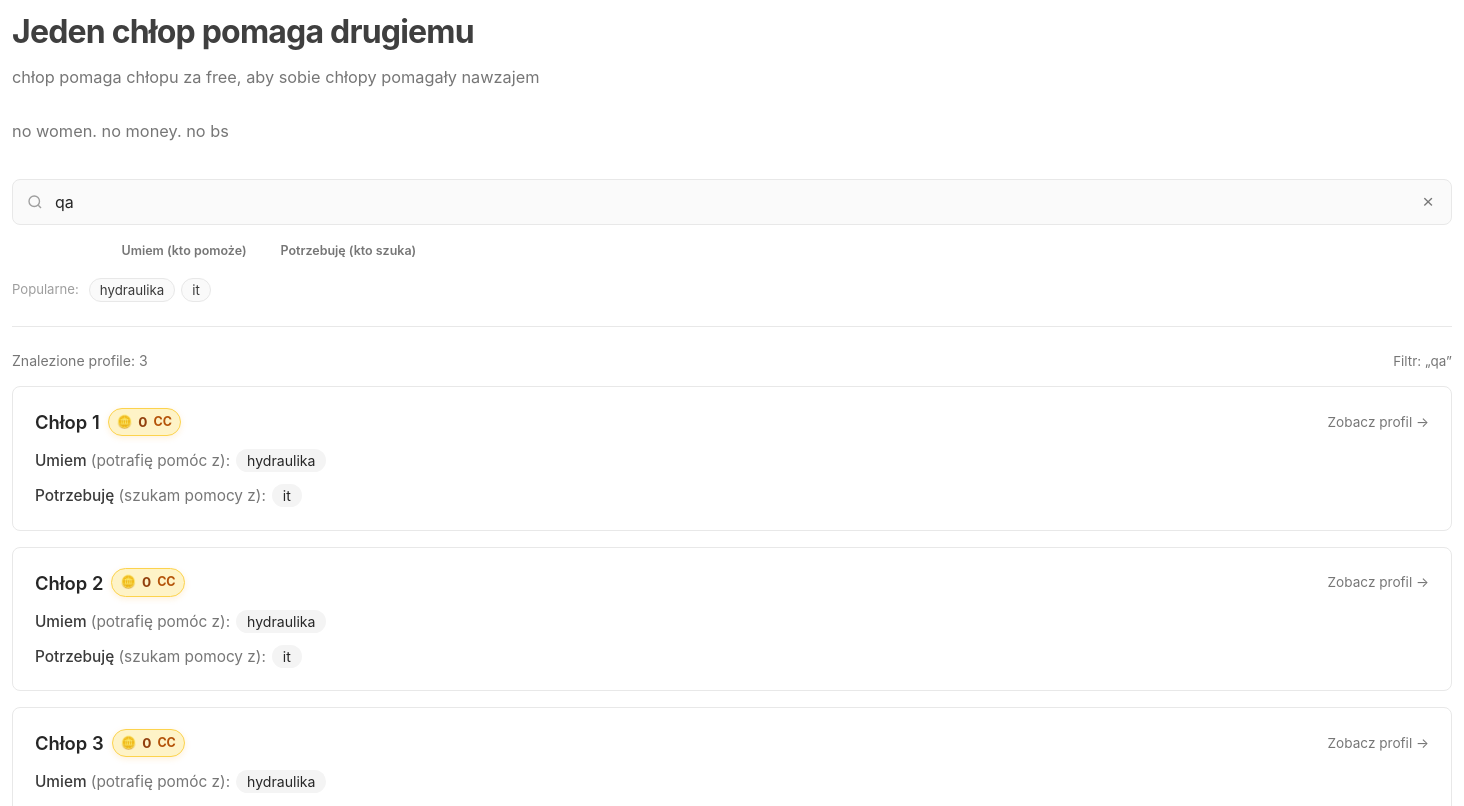
Test case: HomeView: wyszukiwarka i filtry › przycisk × i klawisz Escape czyszczą wyszukiwanie
The image size is (1464, 806).
Click the button named "Wyczyść wyszukiwanie": (1428, 202) [1414,188,1442,216]
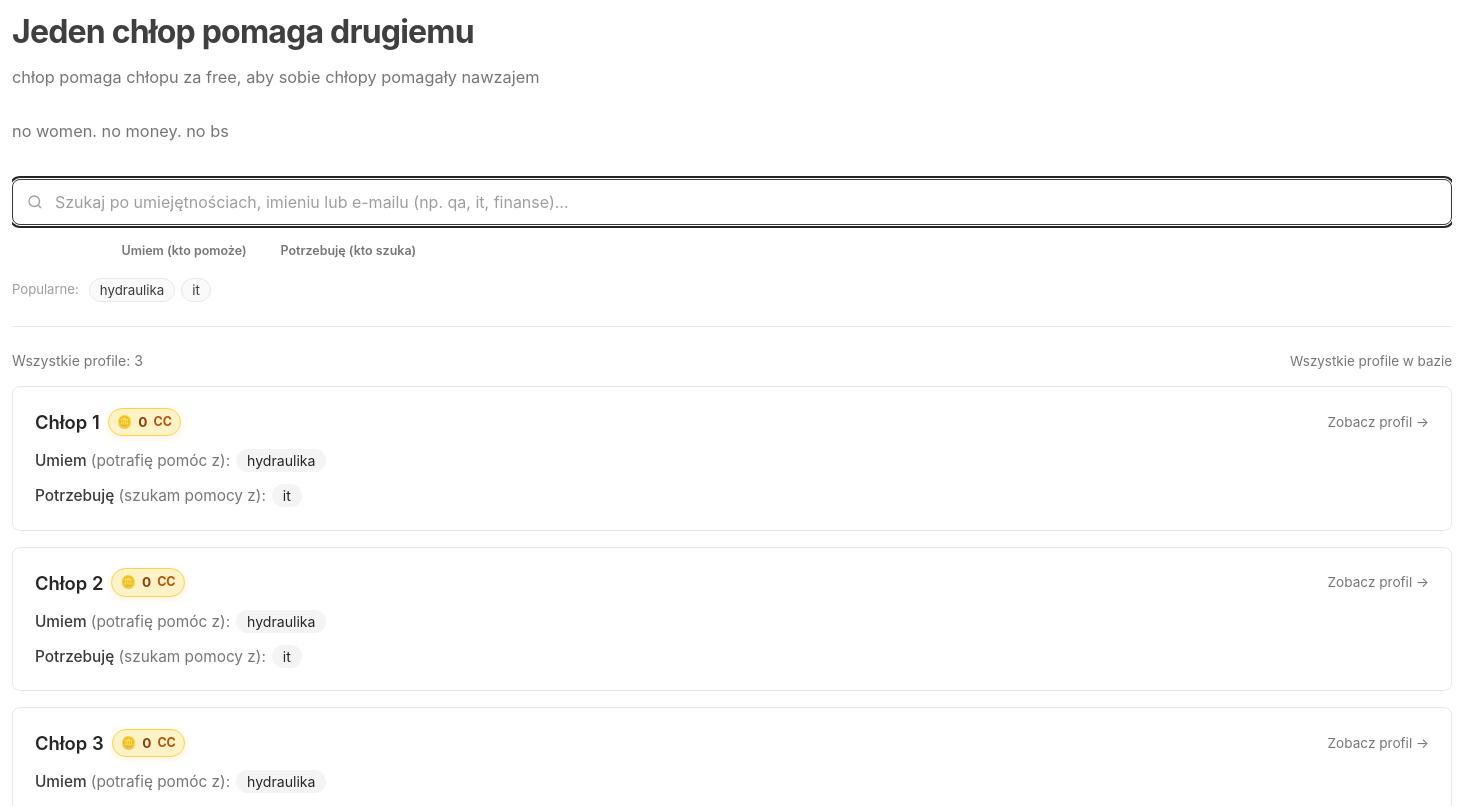
Check: the search field with id "search-input" is empty
Check: the button with class "search-clear" is gone
Replace the text in the search field with id "search-input" with "it": (732, 202) [12,179,1452,225]
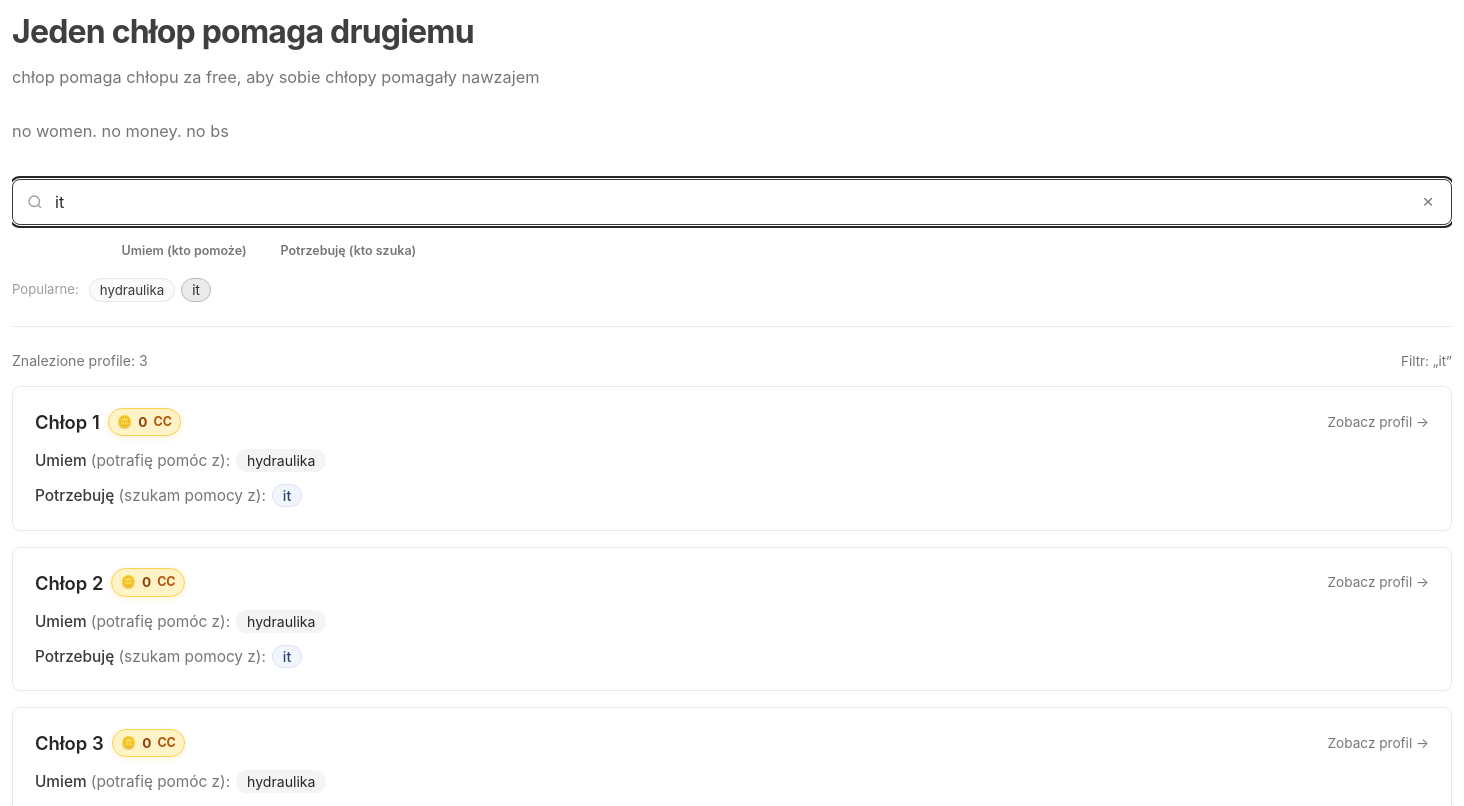
Press Escape in the search field with id "search-input", box [12,179,1452,225]
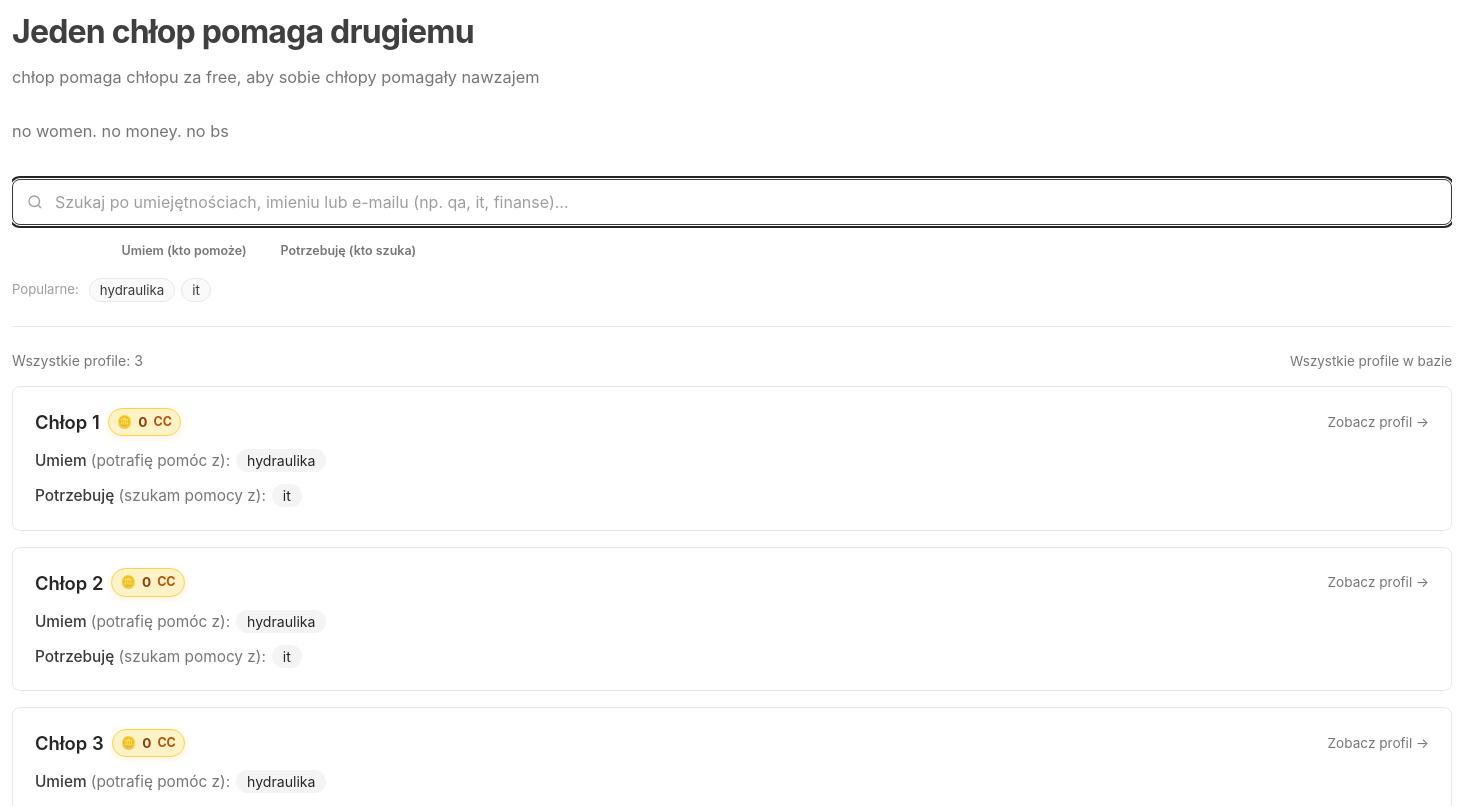
Check: the search field with id "search-input" is empty, box [12,179,1452,225]
